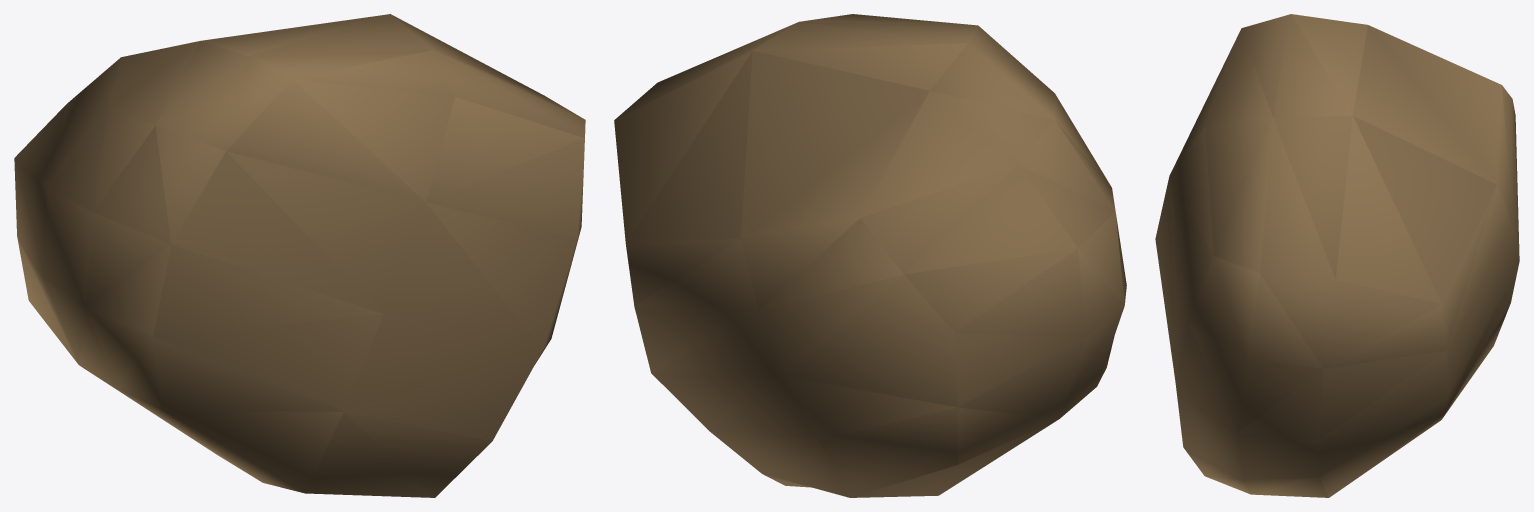
Rendered from SmallSandChunk.003.glb.
The picture shows the model from 3 angles, left to right: view 1: azimuth 30°, elevation 25°; view 2: azimuth 150°, elevation 25°; view 3: azimuth 270°, elevation 25°; orthographic projection. The views are drawn at different scales.
Visible parts, largest first — view 1: SmallSandChunk.003; view 2: SmallSandChunk.003; view 3: SmallSandChunk.003.
Boxes of the visible parts, x1,y1,x2,y2 form: SmallSandChunk.003: (14, 14, 585, 497); SmallSandChunk.003: (614, 14, 1126, 497); SmallSandChunk.003: (1155, 14, 1519, 497).
Size of the model in its own units: 291 by 264 by 210.
